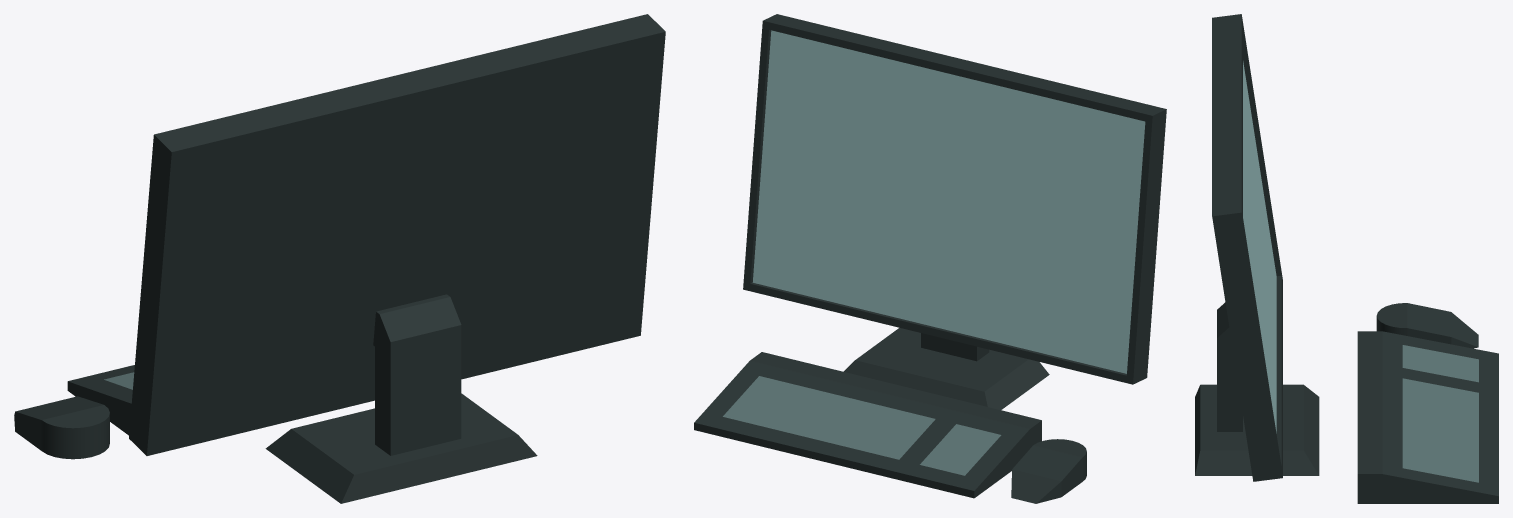
File: computer.glb
3 renders of one model, left to right at view 1: azimuth 30°, elevation 25°; view 2: azimuth 150°, elevation 25°; view 3: azimuth 270°, elevation 25°, orthographic. The views are drawn at different scales.
Visible parts, largest first — view 1: computerScreen; view 2: computerScreen; view 3: computerScreen.
Boxes of the visible parts, x1,y1,x2,y2 form: computerScreen: (14, 14, 665, 503); computerScreen: (694, 14, 1166, 503); computerScreen: (1195, 14, 1498, 503).
Bounding box in the file's own units: 4.02 × 2.94 × 2.54.
